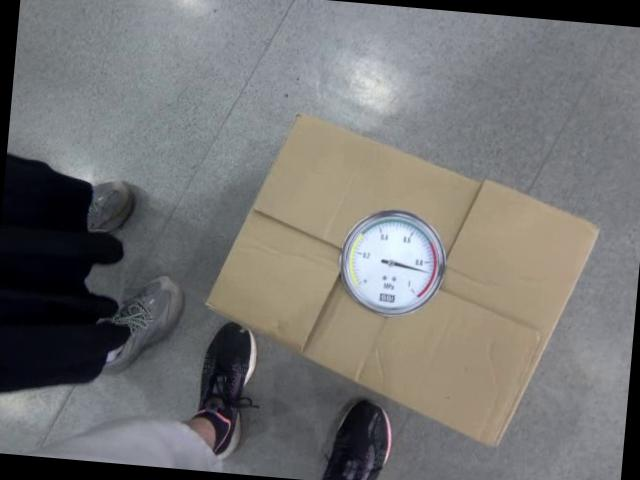Dashboard: (336, 205, 450, 322)
ssi: (376, 290, 395, 304)
